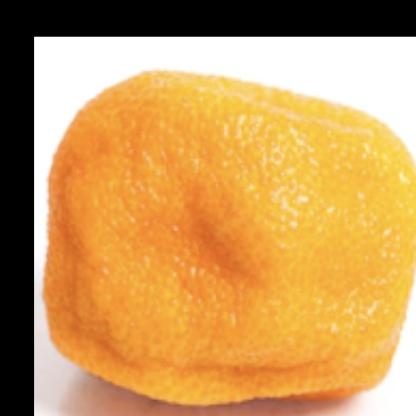rotten: (45, 70, 416, 361)
